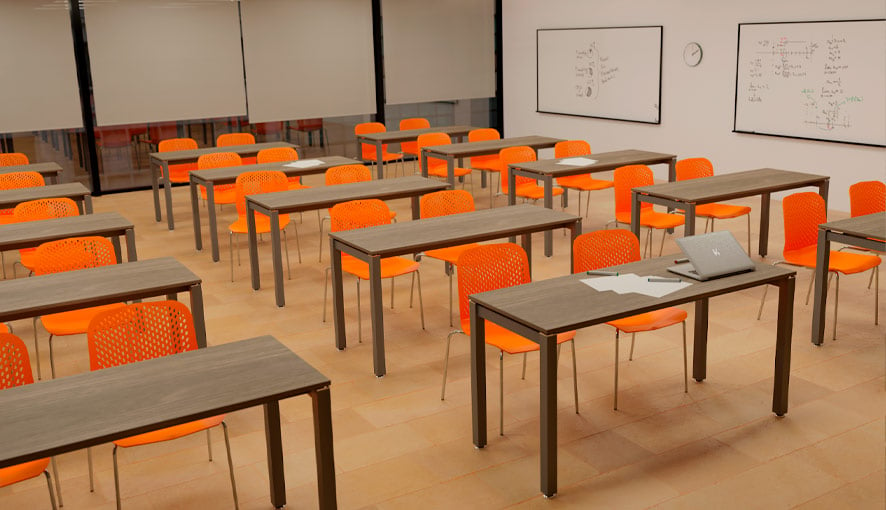m01: (468, 232, 799, 499)
